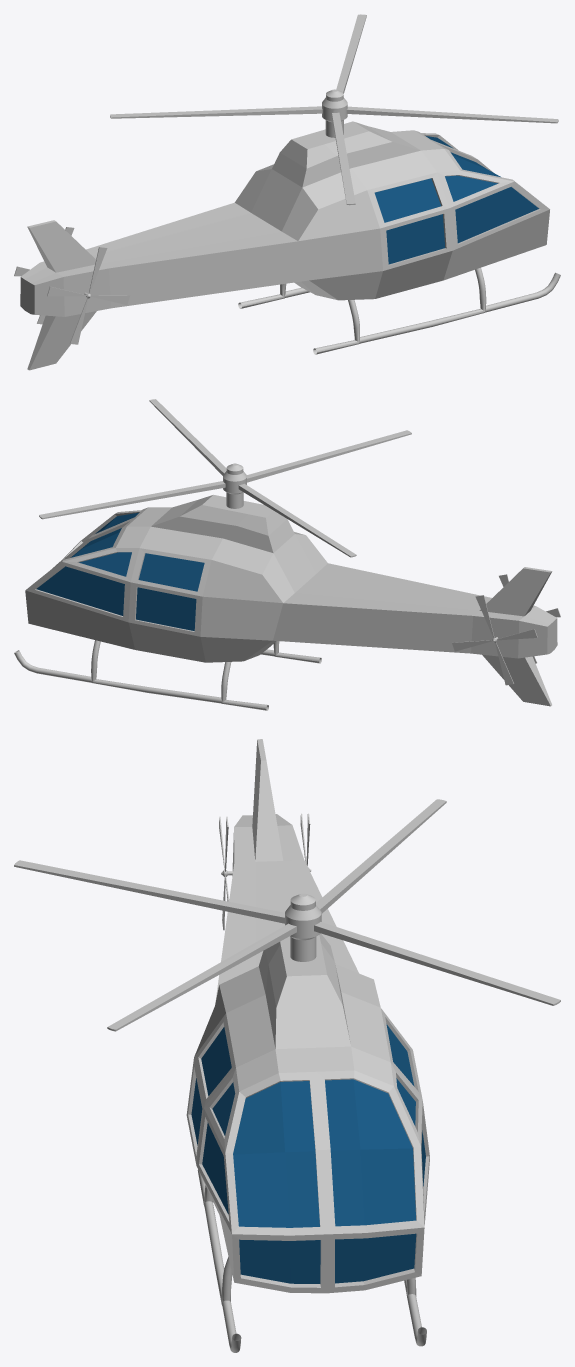
The model's file is helicopter_animation_000113.obj.
3 views of the same model, one above another, from view 1: azimuth 30°, elevation 25°; view 2: azimuth 150°, elevation 25°; view 3: azimuth 270°, elevation 25° (orthographic). The views are drawn at different scales.
Parts seen in each view (by area): view 1: Helicopter.007_Cylinder.008, Helicopter.001_Cylinder.001, Helicopter.004_Cylinder.005; view 2: Helicopter.007_Cylinder.008, Helicopter.001_Cylinder.001, Helicopter.003_Cylinder.004; view 3: Helicopter.007_Cylinder.008, Helicopter.001_Cylinder.001.
Part boxes in pixels (x1,y1,x2,y2): Helicopter.007_Cylinder.008: [20, 121, 560, 370]; Helicopter.001_Cylinder.001: [110, 14, 558, 205]; Helicopter.004_Cylinder.005: [47, 247, 129, 344]; Helicopter.007_Cylinder.008: [14, 494, 557, 710]; Helicopter.001_Cylinder.001: [39, 399, 411, 557]; Helicopter.003_Cylinder.004: [452, 595, 537, 685]; Helicopter.007_Cylinder.008: [186, 739, 429, 1352]; Helicopter.001_Cylinder.001: [14, 799, 560, 1031].
Bounding box in the file's own units: 7.54 × 3.2 × 4.8.
